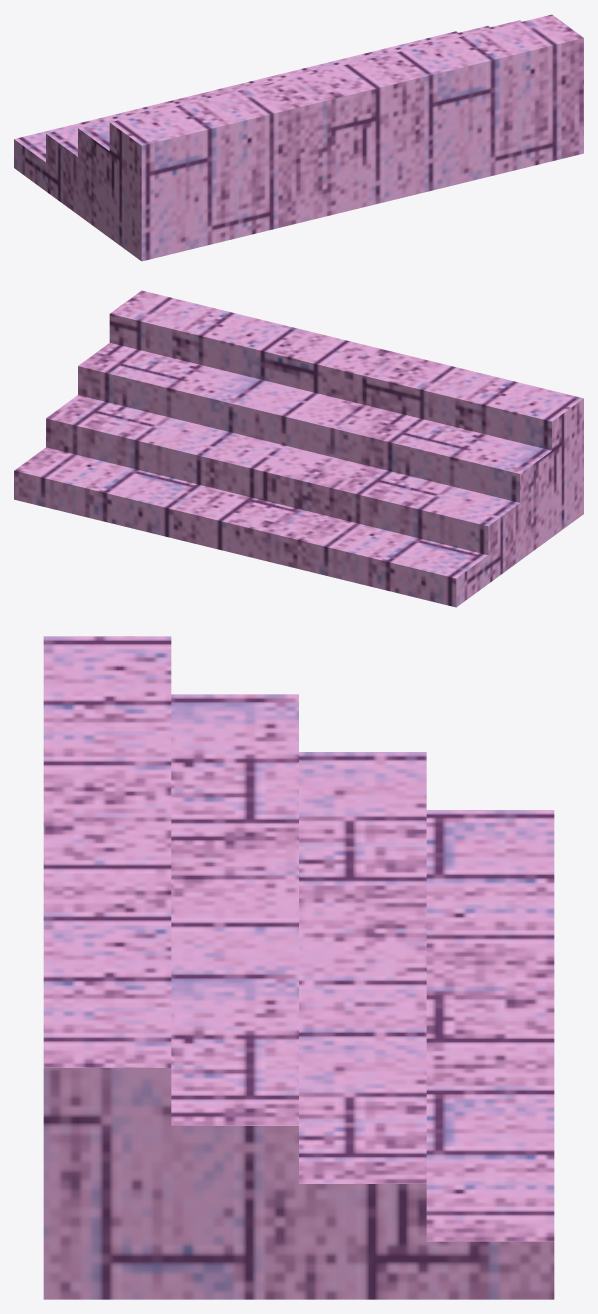
Rendered from stair_small.fbx.
3 views of the same model, one above another, from view 1: azimuth 30°, elevation 25°; view 2: azimuth 150°, elevation 25°; view 3: azimuth 270°, elevation 25° (orthographic). The views are drawn at different scales.
Parts seen in each view (by area): view 1: stair_small; view 2: stair_small; view 3: stair_small.
Part boxes in pixels (<box>): stair_small: <box>14,14,583,261</box>; stair_small: <box>14,290,583,607</box>; stair_small: <box>43,636,554,1299</box>.
Size of the model in its own units: 400 by 100 by 200.
1 material, 1 textured.
